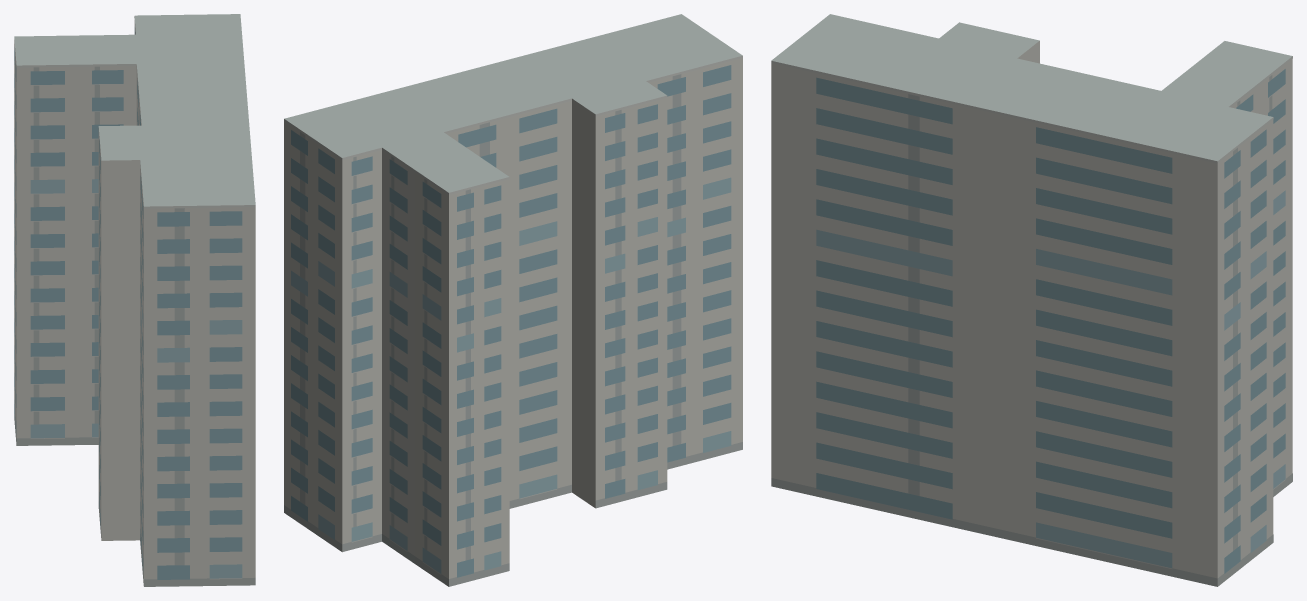
The model's file is residential-b430f440-9e38-4730-9fdb-80933c312d47.glb.
3 renders of one model, left to right at view 1: azimuth 30°, elevation 25°; view 2: azimuth 150°, elevation 25°; view 3: azimuth 270°, elevation 25°, orthographic. The views are drawn at different scales.
Visible parts, largest first — view 1: residential-b430f440-9e38-4730-9fdb-80933c312d47.tmp; view 2: residential-b430f440-9e38-4730-9fdb-80933c312d47.tmp; view 3: residential-b430f440-9e38-4730-9fdb-80933c312d47.tmp.
Boxes of the visible parts, x1,y1,x2,y2 form: residential-b430f440-9e38-4730-9fdb-80933c312d47.tmp: [14, 14, 255, 586]; residential-b430f440-9e38-4730-9fdb-80933c312d47.tmp: [284, 14, 742, 586]; residential-b430f440-9e38-4730-9fdb-80933c312d47.tmp: [771, 14, 1292, 586].
Bounding box in the file's own units: 31.92 × 43 × 47.77.
